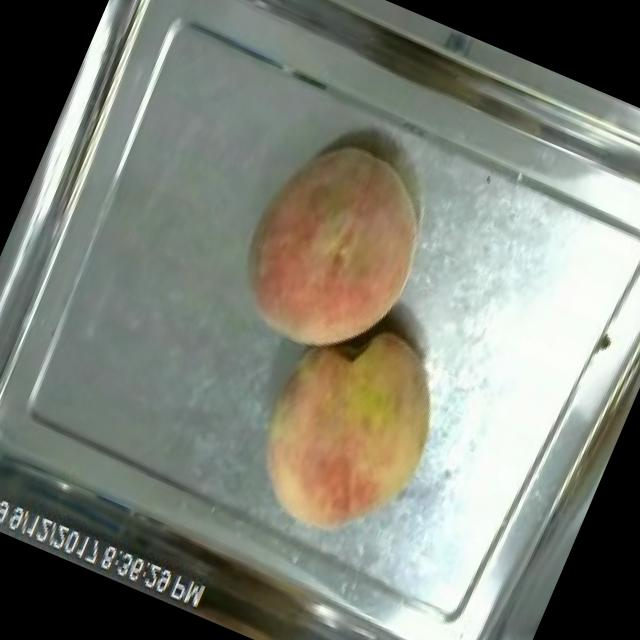Fruit: (221, 292, 474, 571), (211, 116, 456, 384)
